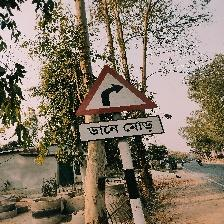Right-turn: (74, 65, 163, 142)
